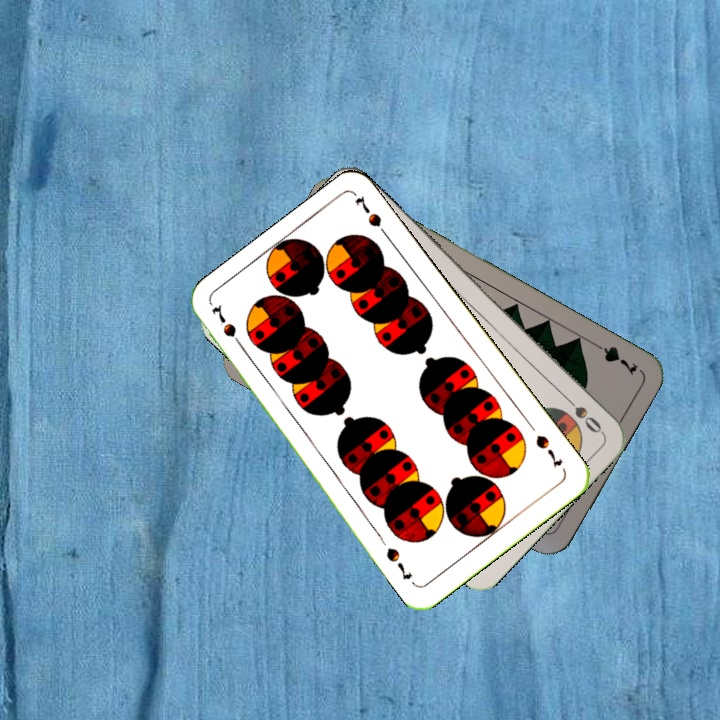G7: (587, 337, 641, 378)
S7: (207, 302, 248, 354), (531, 430, 566, 470)
SO: (558, 390, 605, 436)
